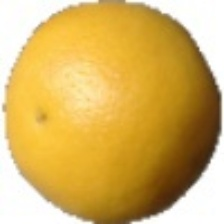grapes: (48, 40, 204, 181)
